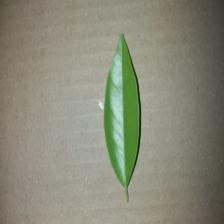healthy: (102, 32, 141, 187)
